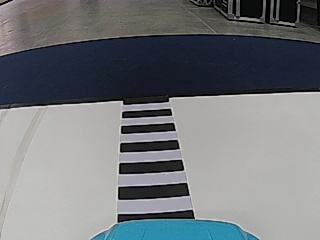CrossWalk: (115, 95, 195, 218)
